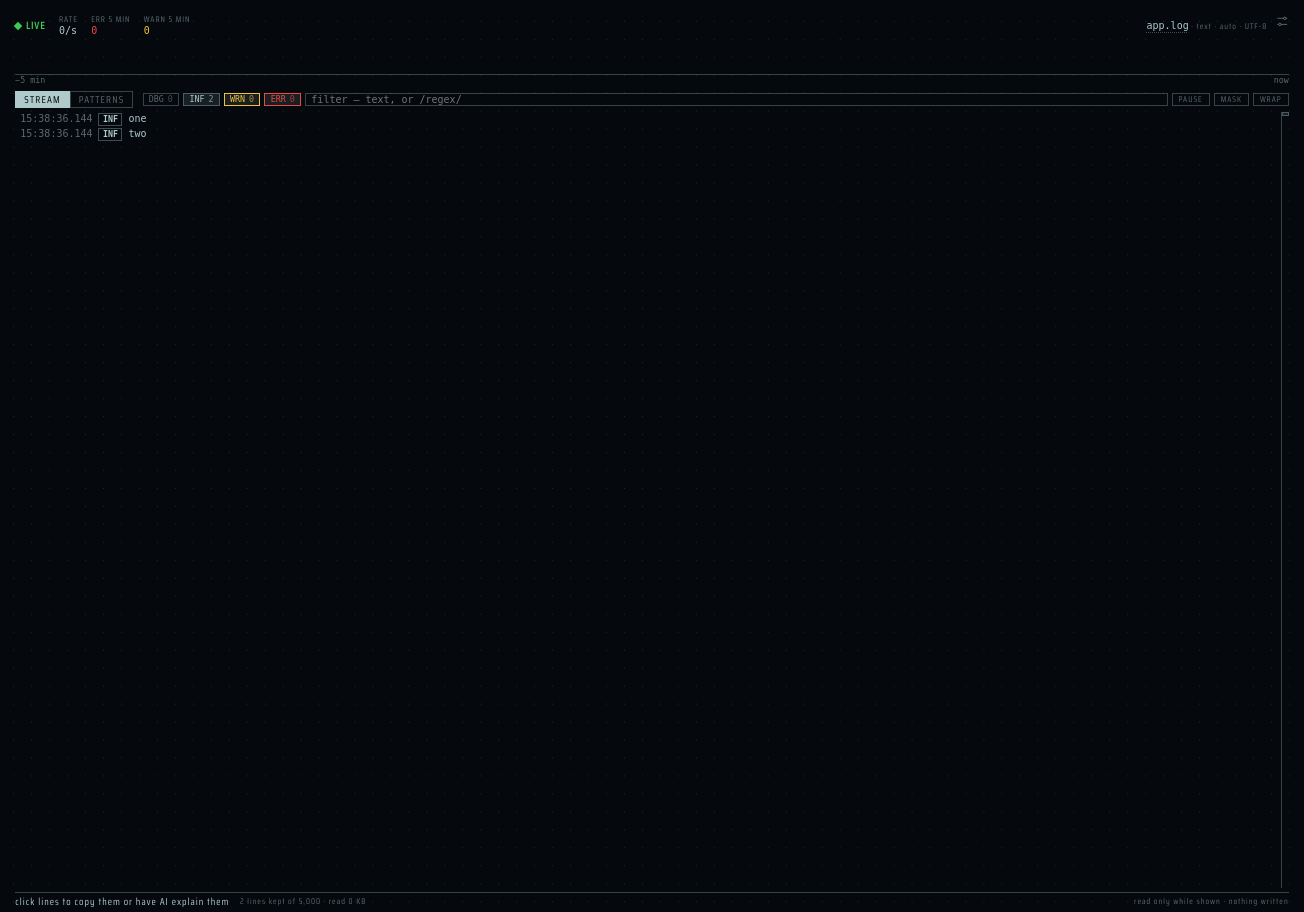
Test: LogWatchWidget, from the review › empties the filter on Escape
Type "one" into the field with test id "logwatch-filter" at (736, 99), box [305,93,1168,106]
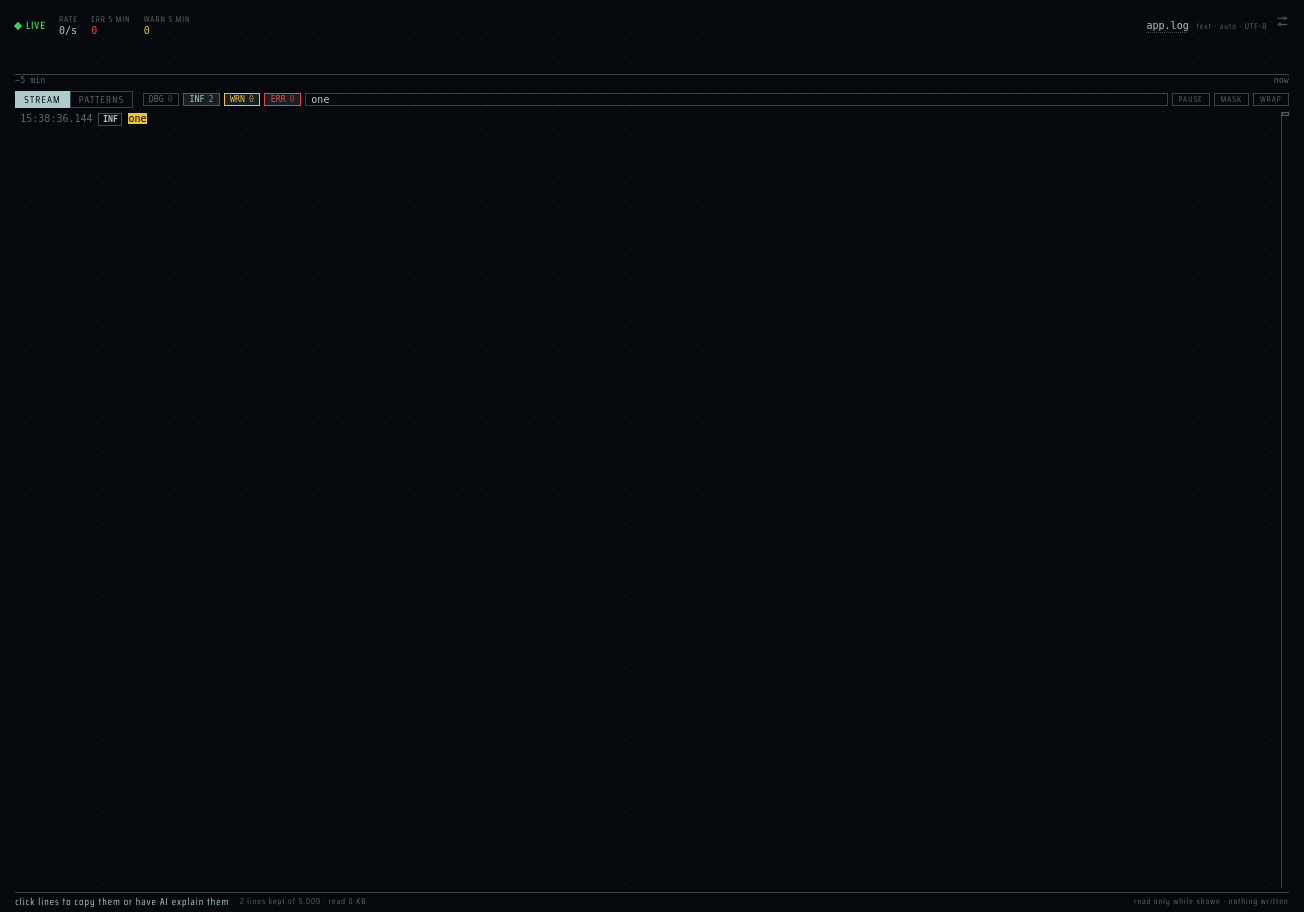
Expected: the number of list items with test id "logwatch-row" is 1, [20,113,146,126]
Press Escape in the field with test id "logwatch-filter", box [305,93,1168,106]
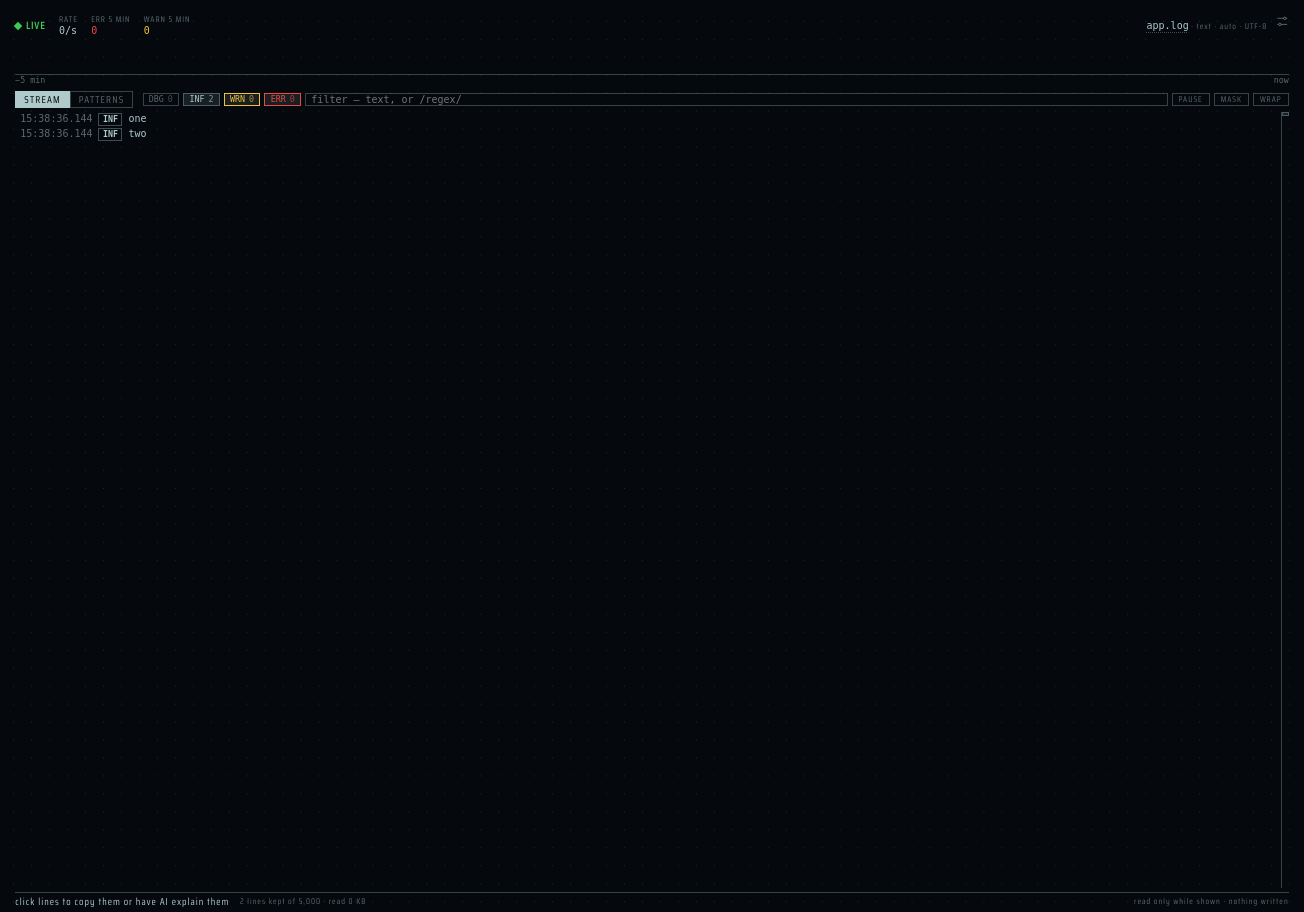
Expected: the field with test id "logwatch-filter" is empty, [305,93,1168,106]
Expected: the number of list items with test id "logwatch-row" is 2, [20,113,146,126]; [20,128,146,141]
